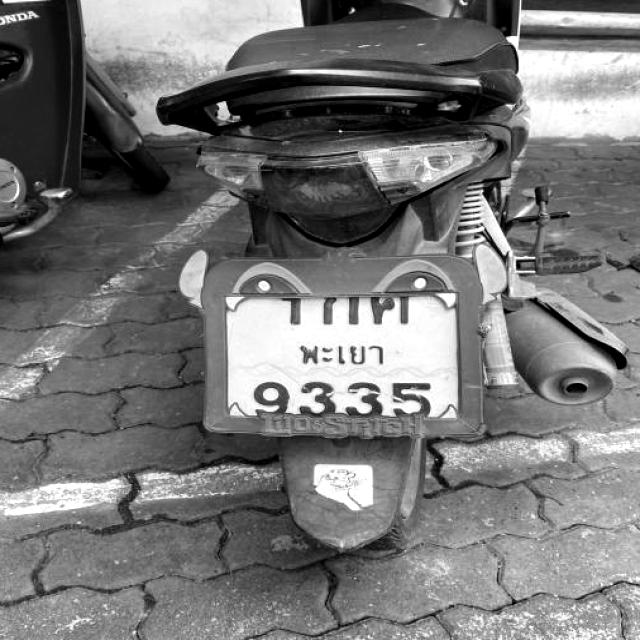letters: (367, 288, 416, 333), (317, 284, 361, 328), (348, 382, 388, 429), (390, 378, 431, 422), (245, 375, 286, 418), (275, 283, 310, 332), (300, 378, 338, 421)
license-plate: (212, 266, 466, 439)
province: (289, 334, 393, 366)
